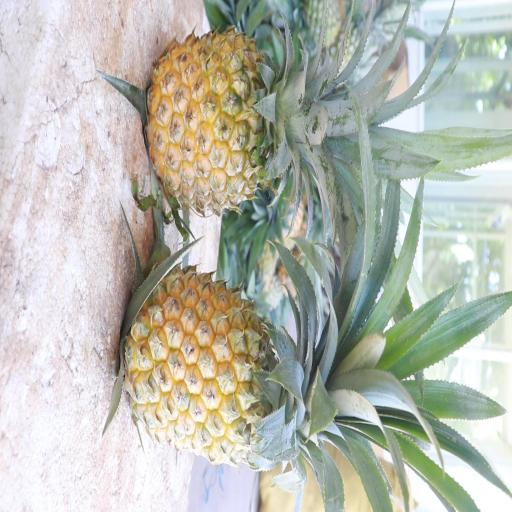Pineapple - v8 v1: (120, 263, 372, 470), (142, 22, 350, 223)
